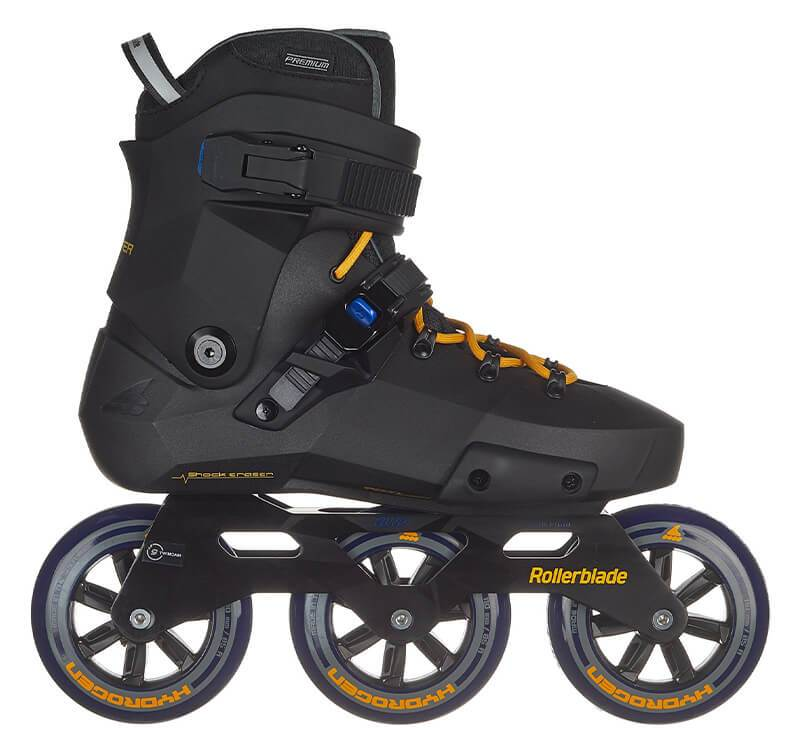roller_blade: (32, 39, 776, 727)
